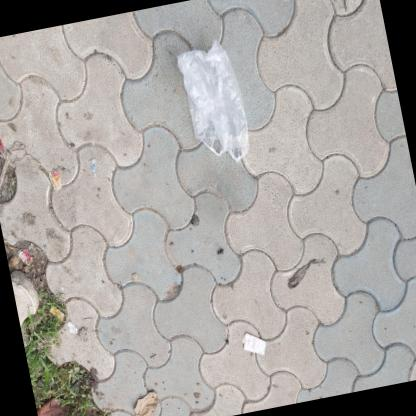Paper: (241, 332, 265, 354), (47, 168, 61, 191), (65, 321, 77, 333)
Plastic: (175, 38, 248, 163), (48, 306, 64, 321), (17, 249, 31, 266)
Waste: (87, 158, 96, 177)
